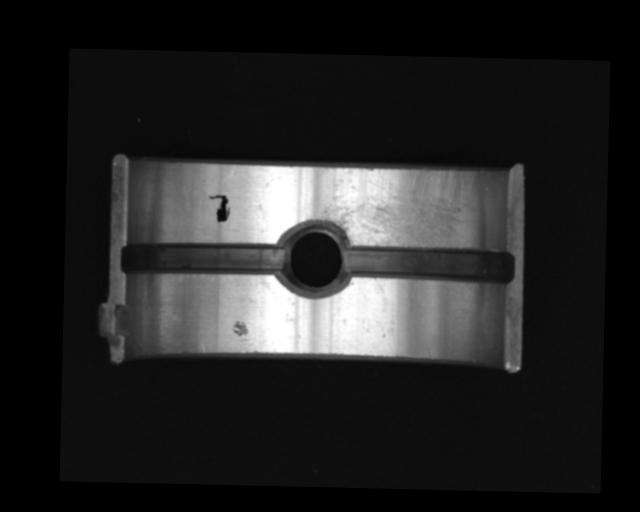blot: (207, 193, 231, 222)
bruise: (232, 320, 250, 336)
gap: (343, 244, 515, 286), (122, 240, 286, 276)
hole: (278, 219, 351, 297)
scratch: (319, 165, 488, 249)
